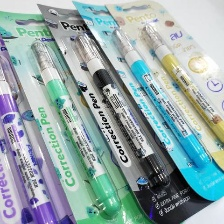book: (34, 0, 221, 224), (0, 7, 183, 224), (68, 0, 224, 203), (101, 0, 224, 185)
correction_fluid: (27, 37, 122, 218), (69, 30, 171, 192), (106, 25, 211, 171), (0, 45, 68, 224), (137, 22, 224, 153)
